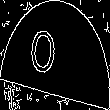O_S: (40, 25, 70, 85)
